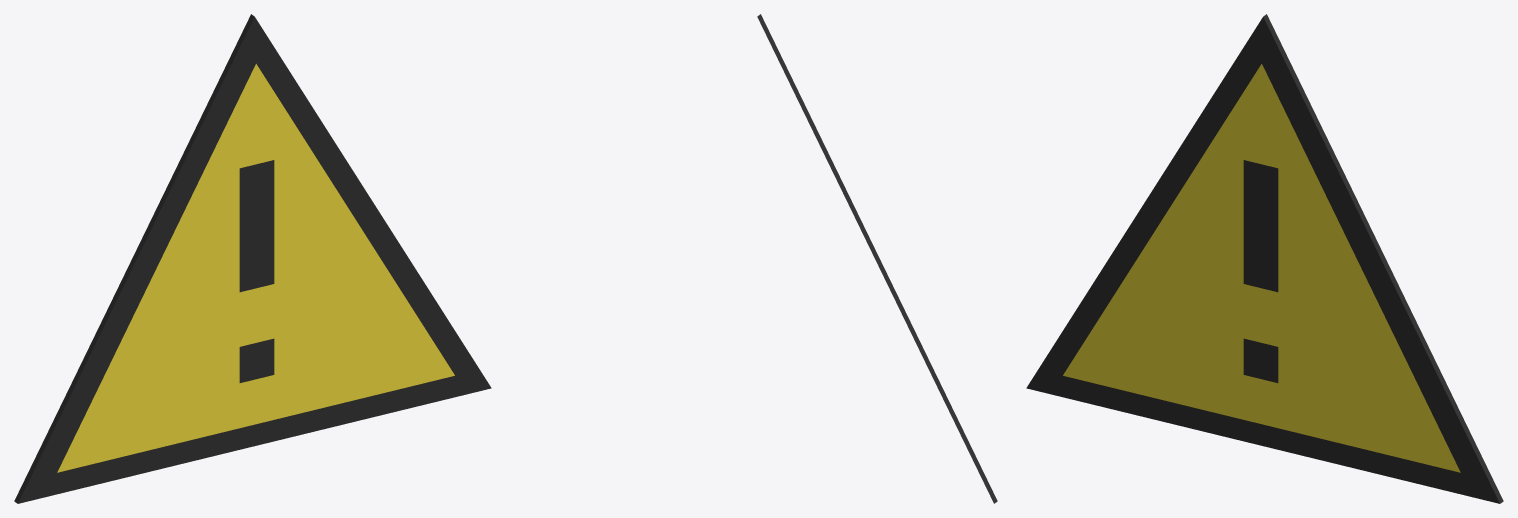
The model's file is fac_sign_warning.glb.
3 renders of one model, left to right at view 1: azimuth 30°, elevation 25°; view 2: azimuth 150°, elevation 25°; view 3: azimuth 330°, elevation 25°, orthographic.
Parts seen in each view (by area): view 1: Body; view 2: Body; view 3: Body.
Boxes of the visible parts, left/top/right/bottom form: Body: left=14, top=14, right=491, bottom=503; Body: left=757, top=14, right=997, bottom=503; Body: left=1026, top=14, right=1503, bottom=503.
Bounding box in the file's own units: 0.3 × 0.2598 × 0.0065.
